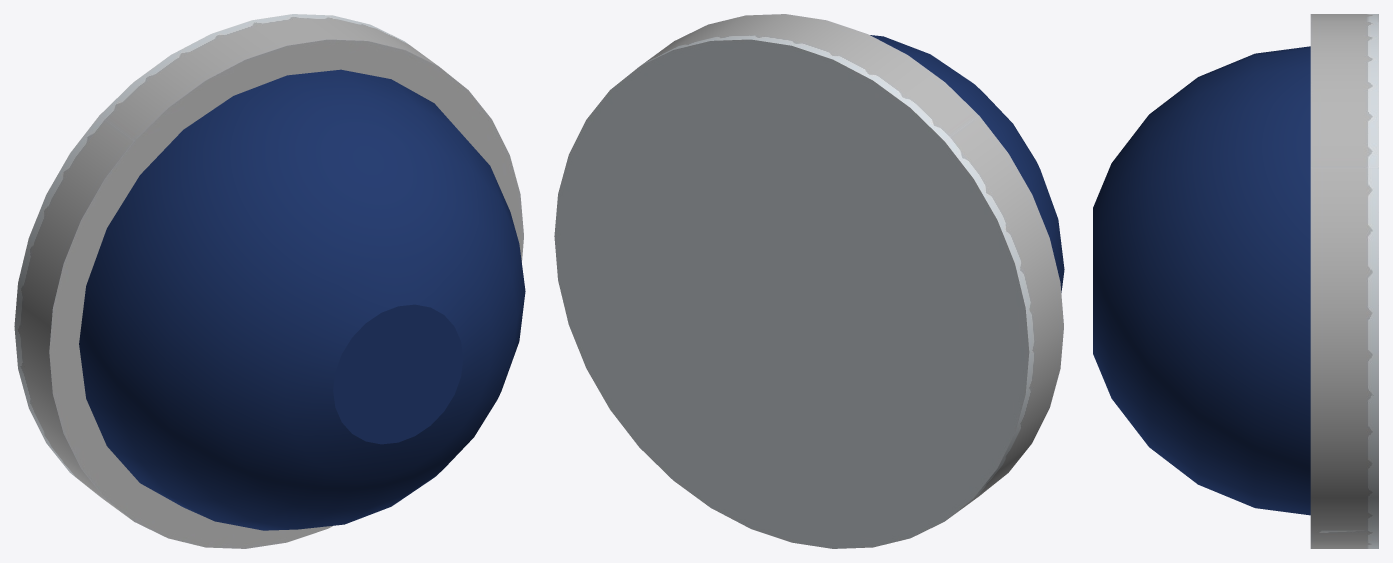
File: mid360.glb
3 renders of one model, left to right at view 1: azimuth 30°, elevation 25°; view 2: azimuth 150°, elevation 25°; view 3: azimuth 270°, elevation 25°, orthographic. The views are drawn at different scales.
Parts seen in each view (by area): view 1: geo1; view 2: geo1; view 3: geo1.
Part boxes in pixels (left/top/right/bottom): geo1: left=14, top=14, right=525, bottom=548; geo1: left=554, top=14, right=1064, bottom=548; geo1: left=1093, top=14, right=1378, bottom=548.
Bounding box in the file's own units: 0.051 × 0.051 × 0.0271.
Materials: 2 (1 with a texture image).
